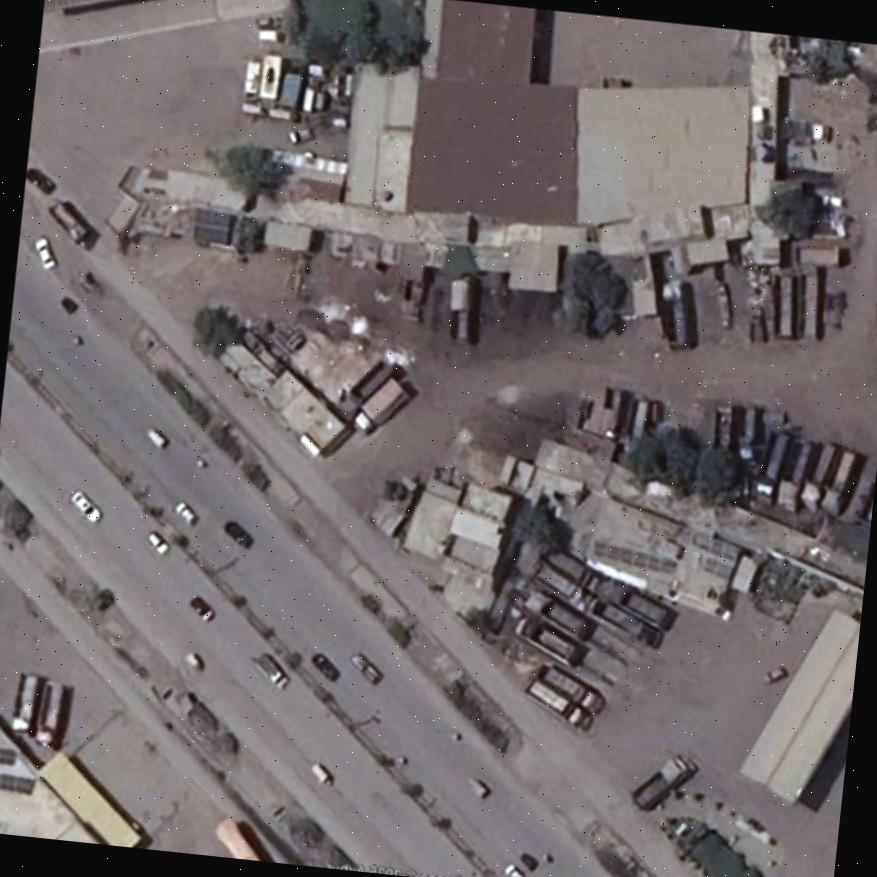Solarpanel: (0, 774, 32, 791), (0, 746, 16, 762)
